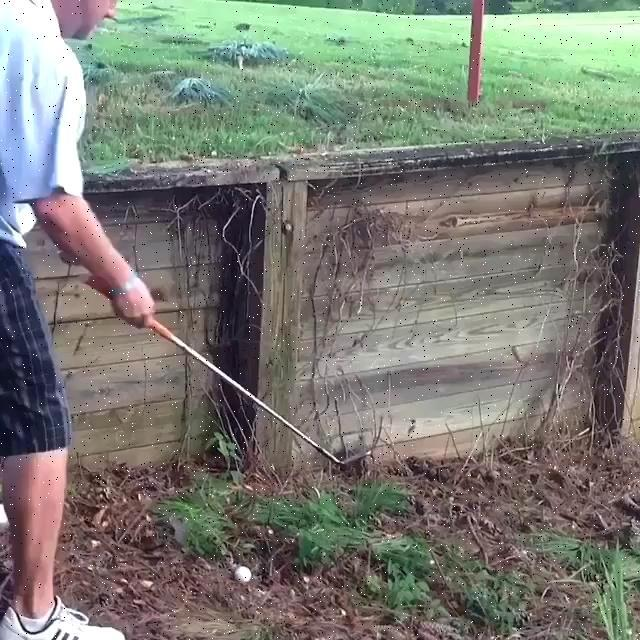golf ball: (234, 566, 252, 584)
golf club-handle: (83, 273, 372, 465)
golf club-head: (342, 451, 372, 465)
